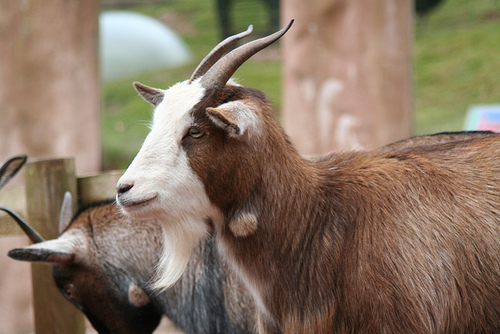goat: (114, 18, 500, 334), (5, 191, 258, 334)
